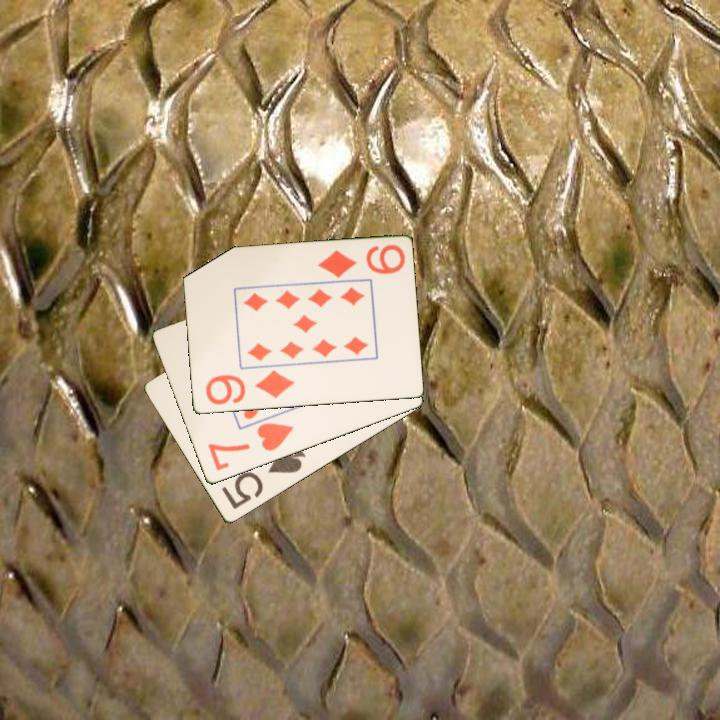5s: (218, 442, 309, 513)
7h: (204, 419, 297, 474)
9d: (202, 367, 297, 408), (314, 241, 408, 281)
